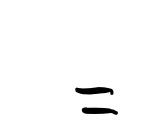eqv: (75, 87, 118, 115)
